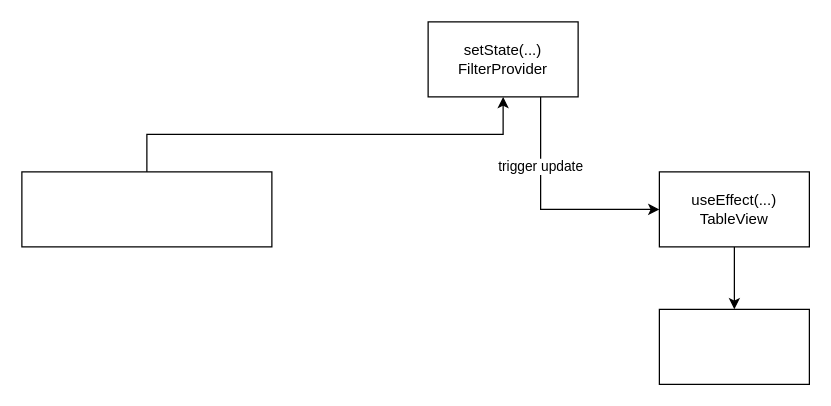
Image size: 831x406. Some labels were removed from this diagram. Each missing label, with the centre of its shape:
"fetch(...) TableView" belongs at point (733, 346).
"onChange('slot', { start: '', end: '' }) DateRangeInput" belongs at point (146, 209).
